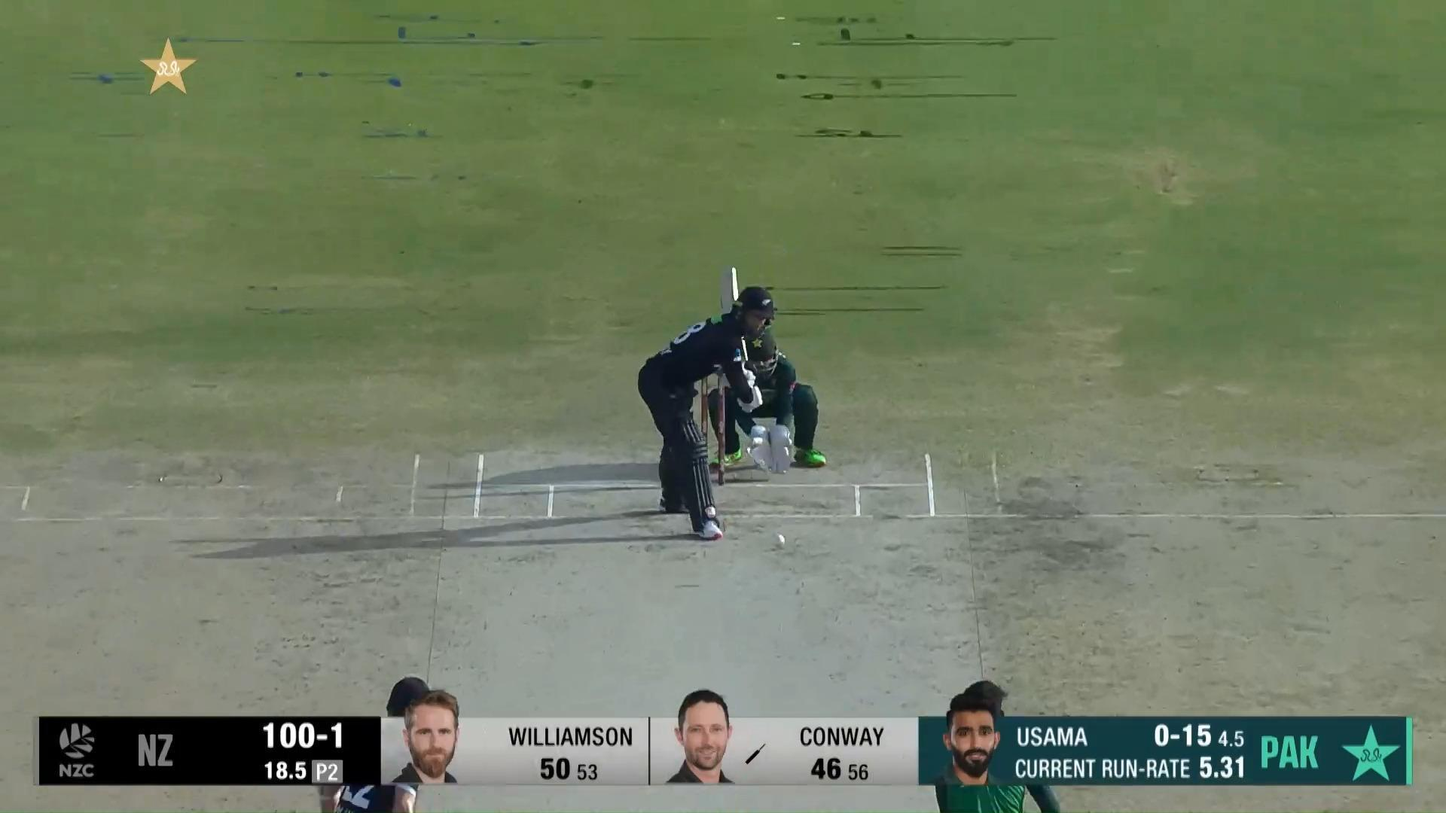BM 1: (638, 266, 776, 541)
BO: (934, 680, 1061, 813)
